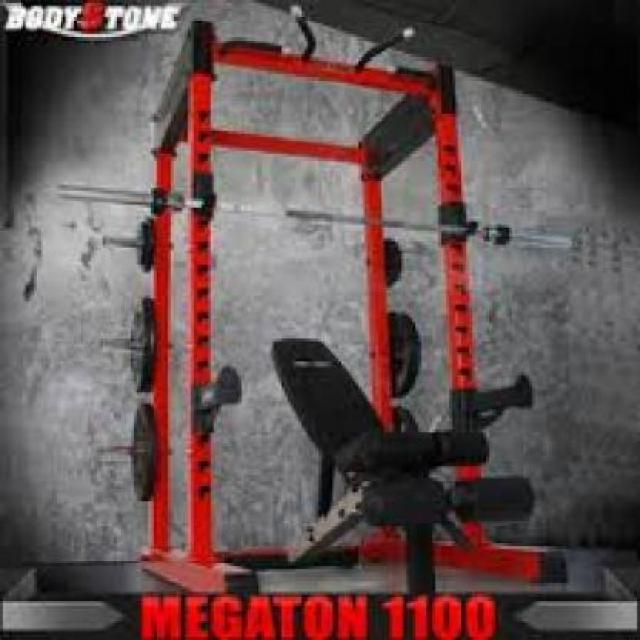smith machine: (62, 46, 569, 591)
